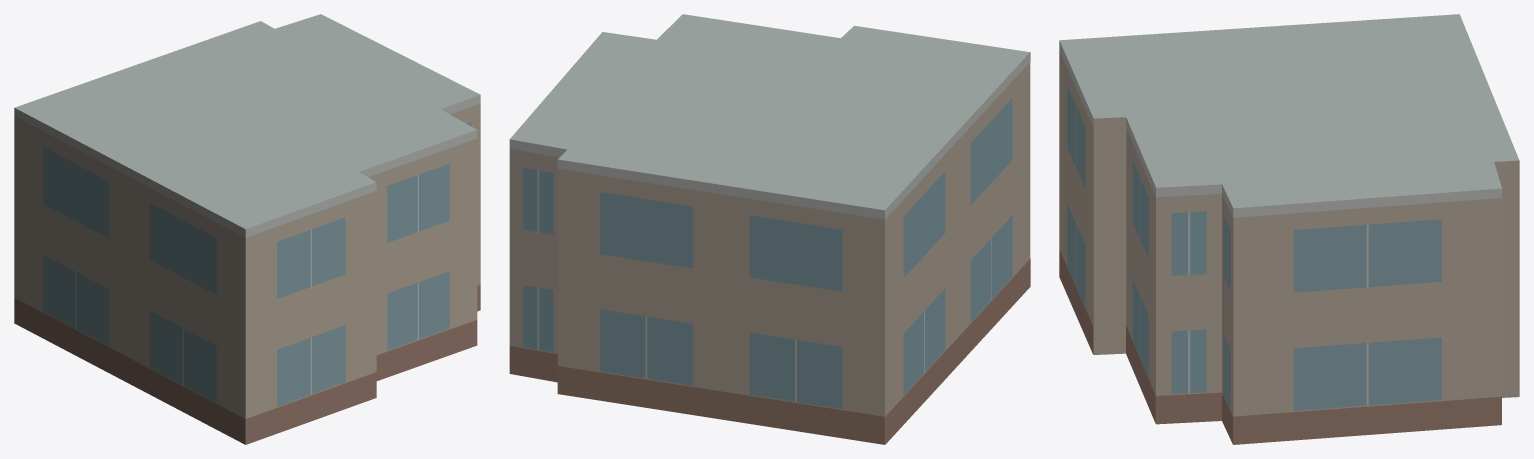
The model's file is survey-upis-32944357.glb.
3 renders of one model, left to right at view 1: azimuth 30°, elevation 25°; view 2: azimuth 150°, elevation 25°; view 3: azimuth 270°, elevation 25°, orthographic. The views are drawn at different scales.
Visible parts, largest first — view 1: survey-upis-32944357.tmp; view 2: survey-upis-32944357.tmp; view 3: survey-upis-32944357.tmp.
Part boxes in pixels (box(x1,y1,x2,y2)): survey-upis-32944357.tmp: box(14, 14, 480, 444); survey-upis-32944357.tmp: box(509, 14, 1030, 444); survey-upis-32944357.tmp: box(1059, 14, 1519, 444).
Size of the model in its own units: 10.76 by 6.1 by 10.77.
